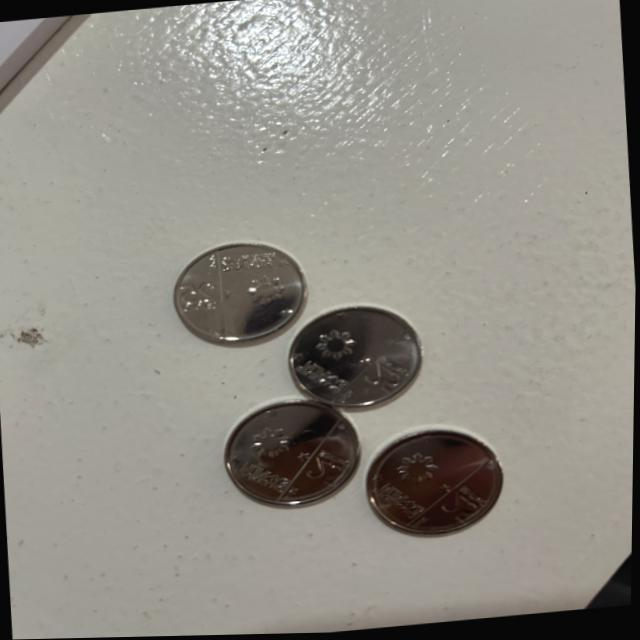25Cent_New_Front: (429, 488, 499, 534), (298, 445, 359, 493), (361, 354, 429, 397), (173, 281, 226, 317)
